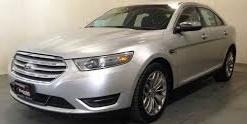Cars: (10, 3, 235, 122)
